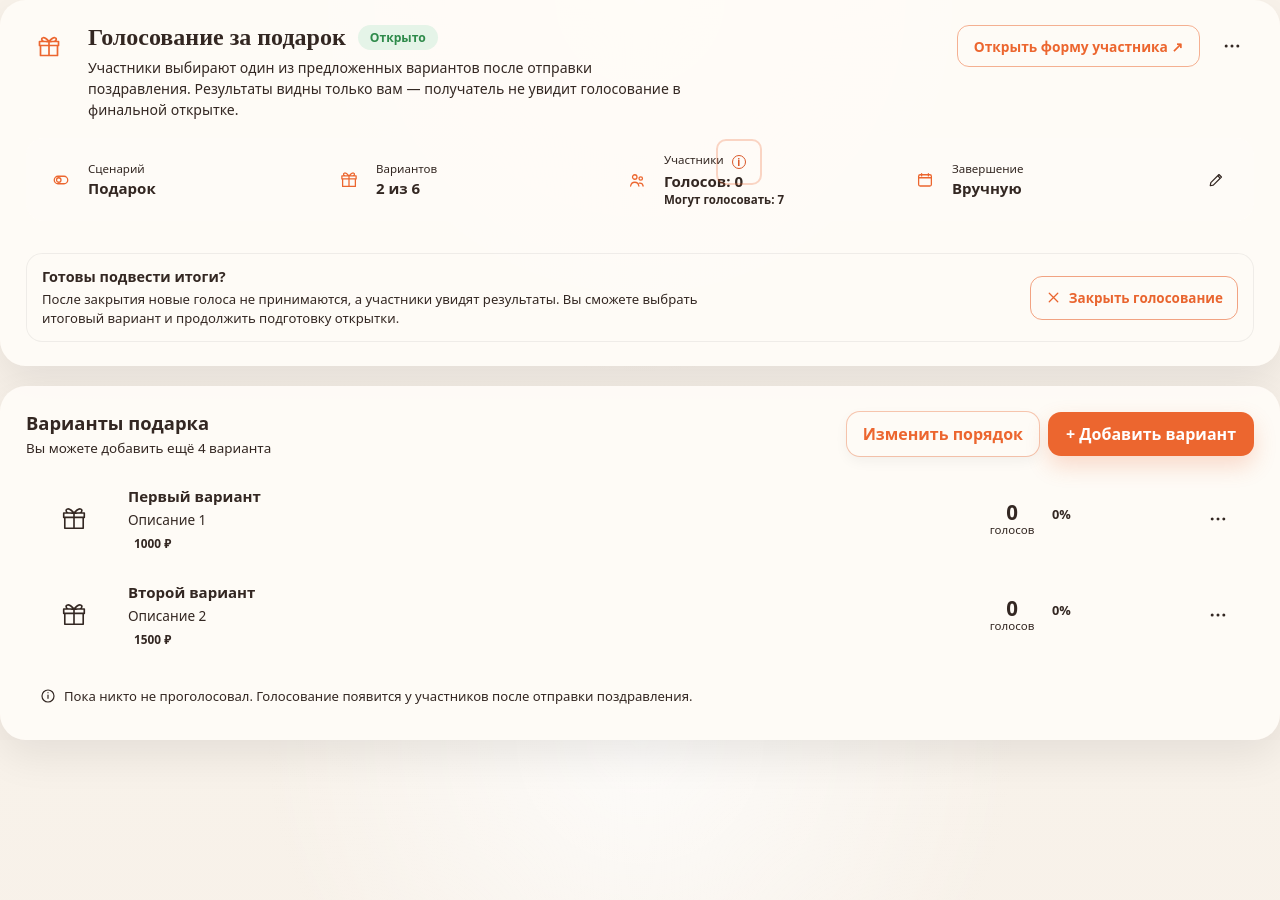
Test case: GiftPollSettingsForm active poll › keeps poll closing visible beside the results and explains every consequence
The width and height of the screenshot is (1280, 900).
Click the button "Закрыть голосование".
click(1134, 298)  # box x1=1030 y1=276 x2=1238 y2=320
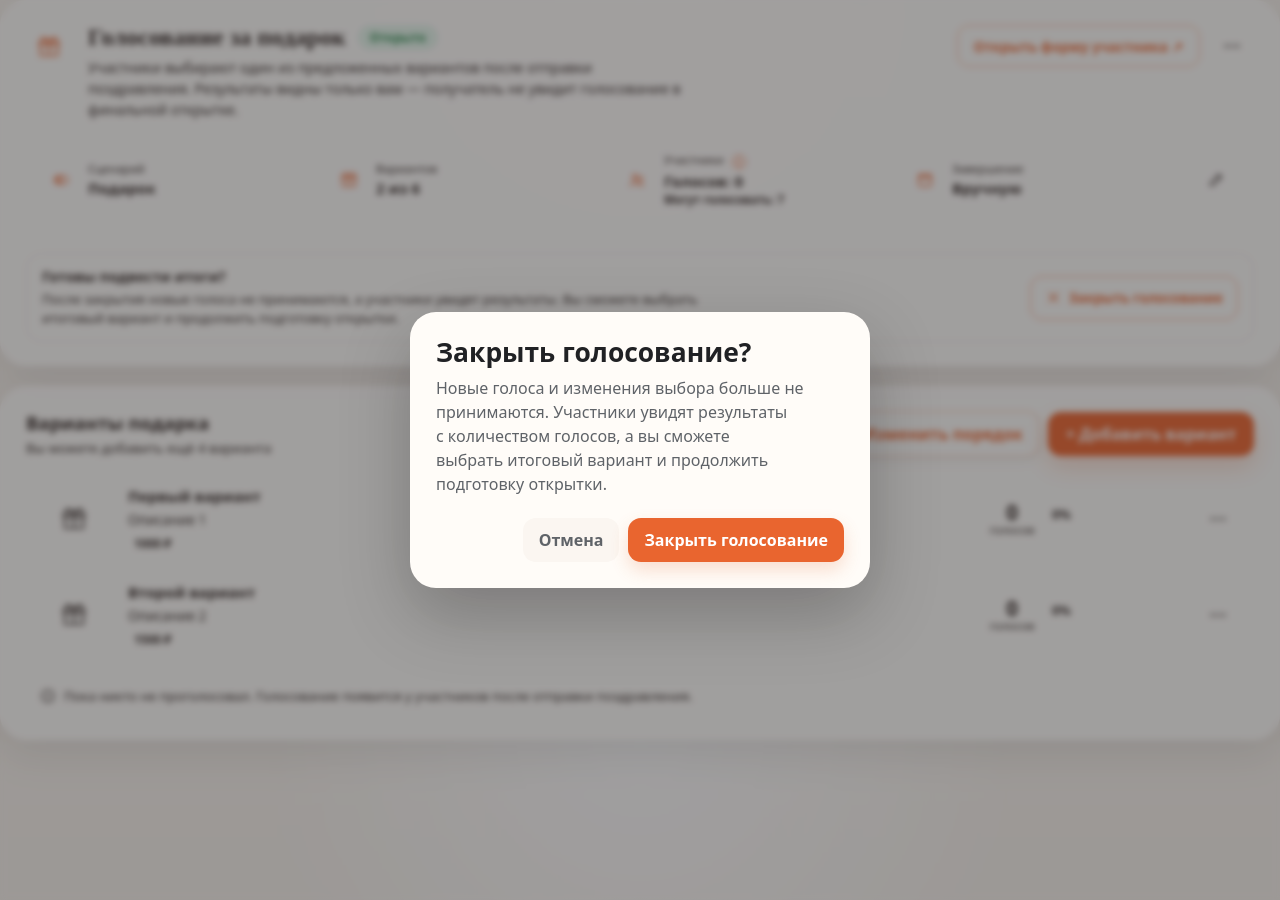
Now the dialog "Закрыть голосование?" shows "Новые голоса и изменения выбора больше не принимаются", box x1=436 y1=377 x2=804 y2=495
Now the dialog "Закрыть голосование?" shows "Участники увидят результаты с количеством голосов", box x1=436 y1=377 x2=804 y2=495
Now the dialog "Закрыть голосование?" shows "продолжить подготовку открытки", box x1=436 y1=377 x2=804 y2=495
